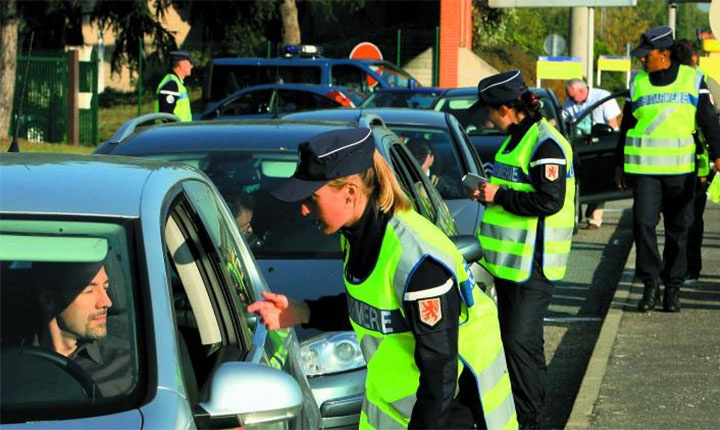\: (622, 29, 702, 310), (561, 77, 618, 226), (148, 52, 195, 126)
person with partial safety: (284, 132, 511, 430), (475, 77, 576, 430)
person without safety: (17, 264, 135, 400)
safety vest: (331, 222, 510, 430), (490, 125, 573, 281), (621, 64, 711, 174), (152, 76, 194, 123)
